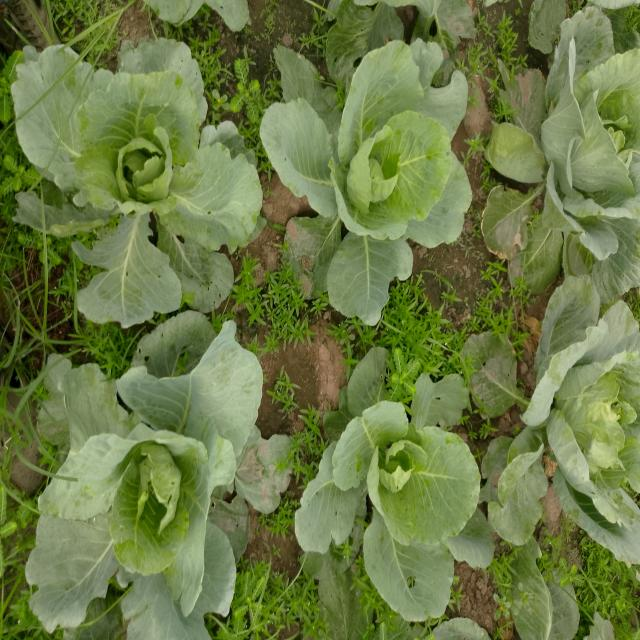Cabbage: (22, 323, 296, 631), (14, 29, 261, 300), (264, 25, 472, 319), (477, 296, 640, 600), (303, 346, 472, 608), (492, 6, 640, 300)
